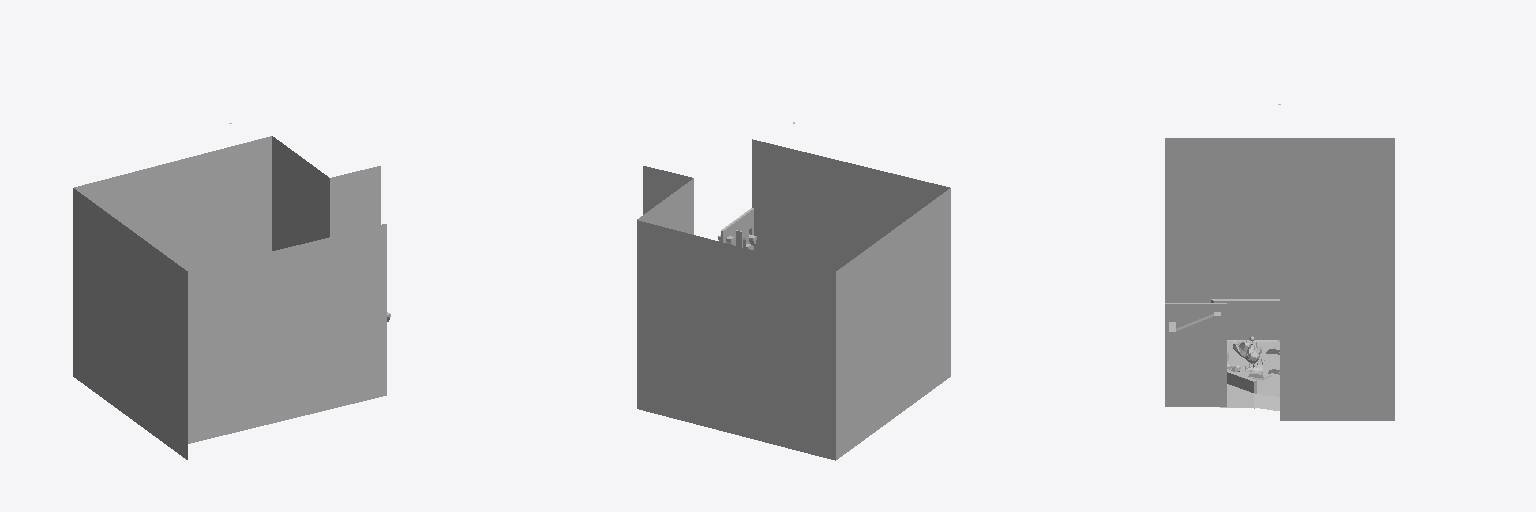
File: level 11 area 1.obj
3 renders of one model, left to right at view 1: azimuth 30°, elevation 25°; view 2: azimuth 150°, elevation 25°; view 3: azimuth 270°, elevation 25°, orthographic.
Parts seen in each view (by area): view 1: Plane_Plane.001; view 2: Plane_Plane.001; view 3: Plane_Plane.001.
Boxes of the visible parts, box(x1,y1,x2,y2) form: Plane_Plane.001: box(73, 136, 390, 459); Plane_Plane.001: box(637, 139, 950, 460); Plane_Plane.001: box(1165, 138, 1394, 420).
Bounding box in the file's own units: 202 × 215 × 161.